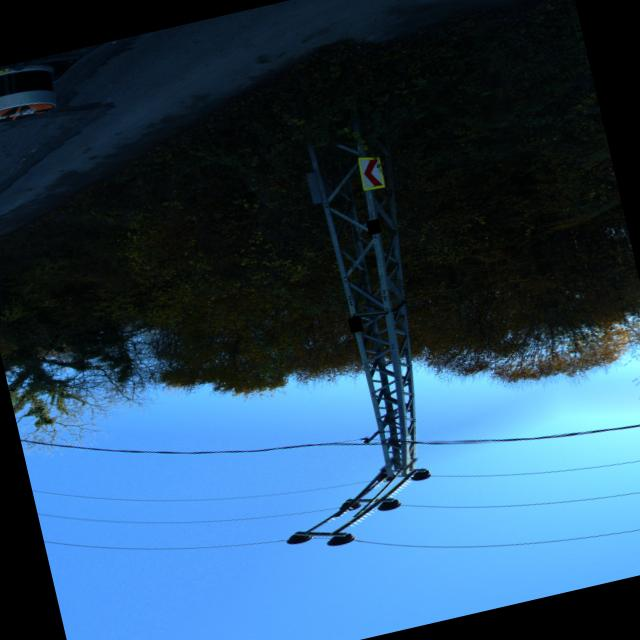Utility Pole Information Plate: (364, 217, 380, 234), (346, 315, 361, 332)
